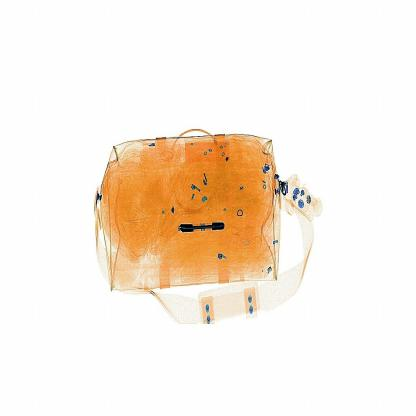knife: (175, 216, 227, 236)
